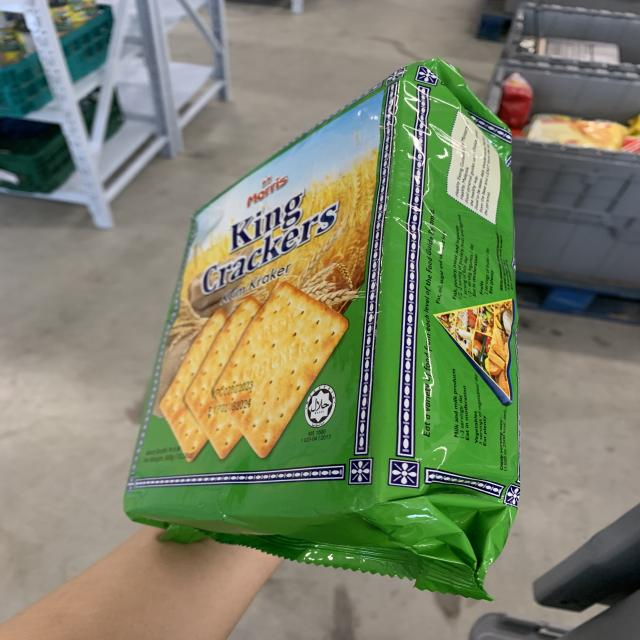object_name: (179, 117, 476, 566)
